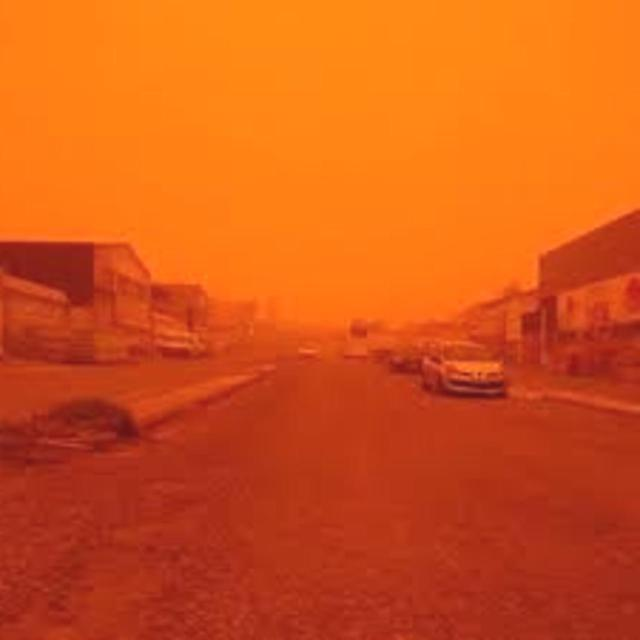Car: (420, 340, 509, 397)
